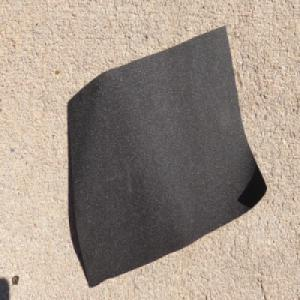PaintChip: (62, 17, 274, 279)
